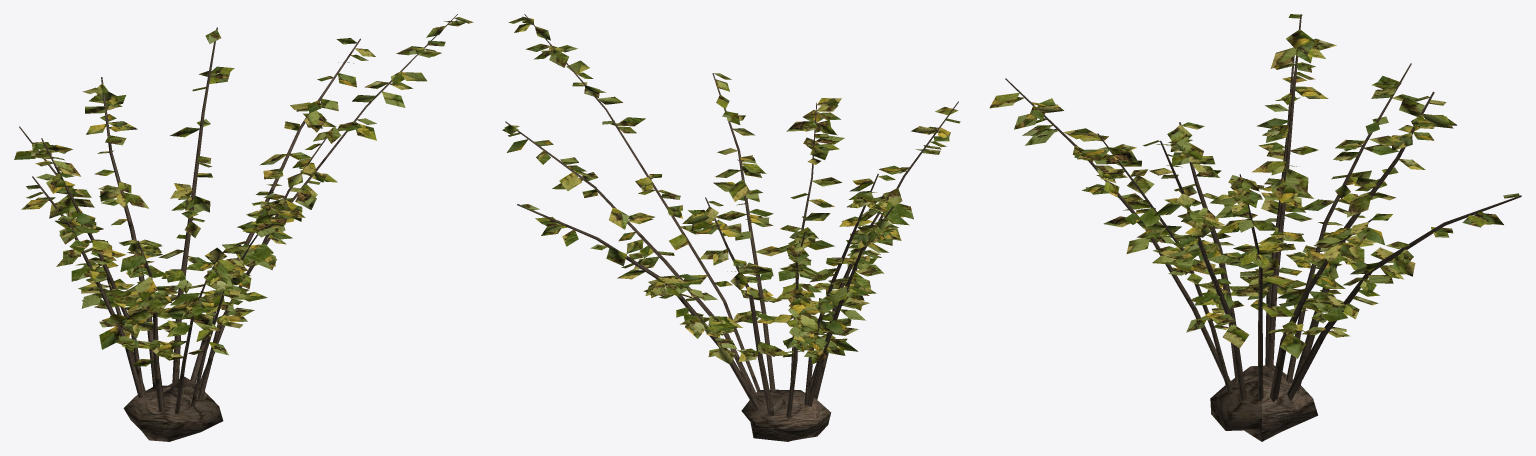
The model's file is veg_hazel_stool.glb.
3 views of the same model, side by side, from view 1: azimuth 30°, elevation 25°; view 2: azimuth 150°, elevation 25°; view 3: azimuth 270°, elevation 25° (orthographic). The views are drawn at different scales.
Parts seen in each view (by area): view 1: veg_hazel_stool; view 2: veg_hazel_stool; view 3: veg_hazel_stool.
Boxes of the visible parts, x1,y1,x2,y2 form: veg_hazel_stool: (14,14,473,441); veg_hazel_stool: (502,14,960,441); veg_hazel_stool: (989,14,1521,441).
Size of the model in its own units: 3 by 2.41 by 2.85.
Materials: 1 (1 with a texture image).
